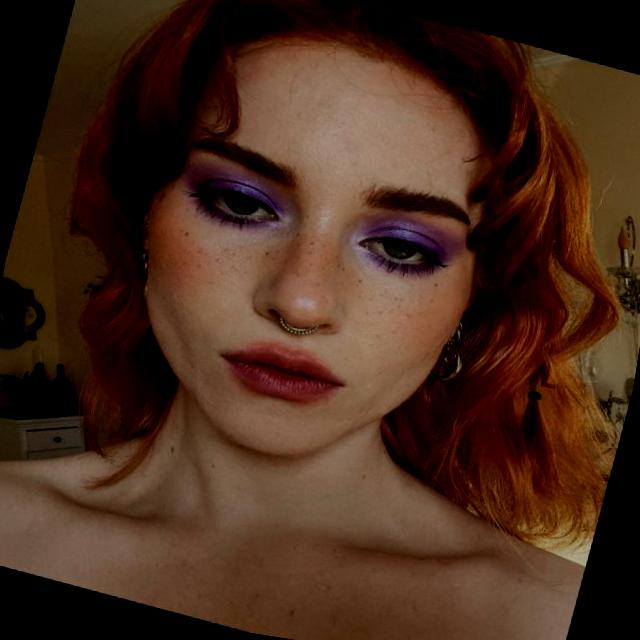freckle: (150, 203, 472, 349)
